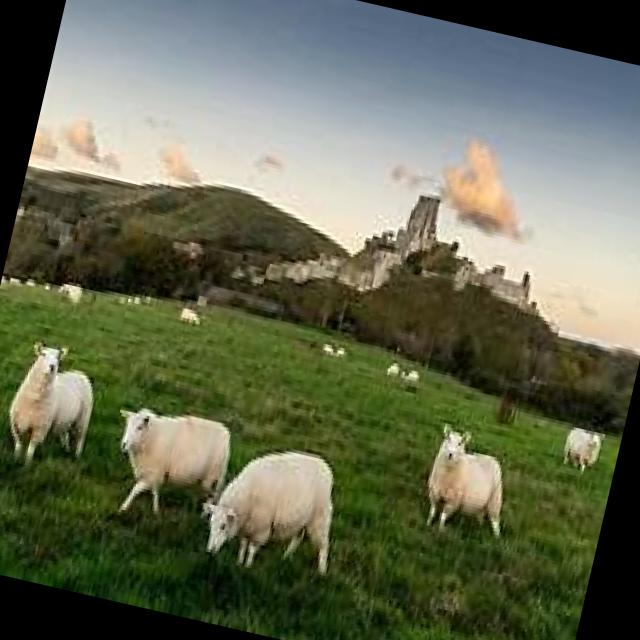animal: (191, 429, 353, 585), (96, 397, 240, 537), (0, 333, 107, 480), (417, 419, 523, 545), (560, 422, 608, 474), (180, 304, 204, 324), (386, 359, 402, 377)
